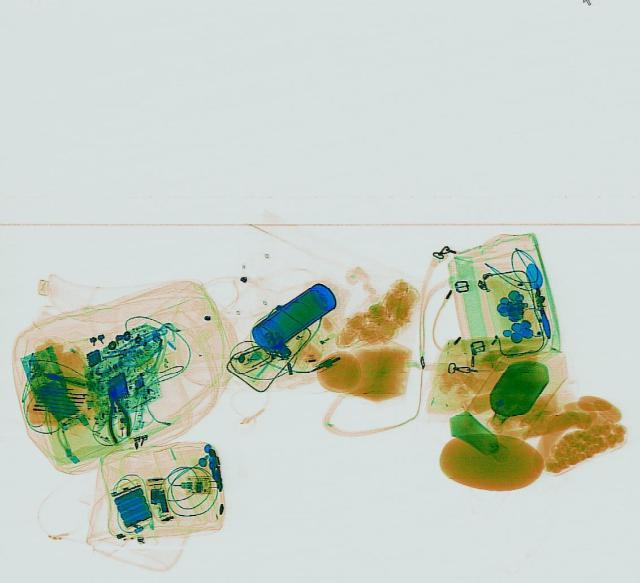Pliers: (100, 383, 132, 443)
